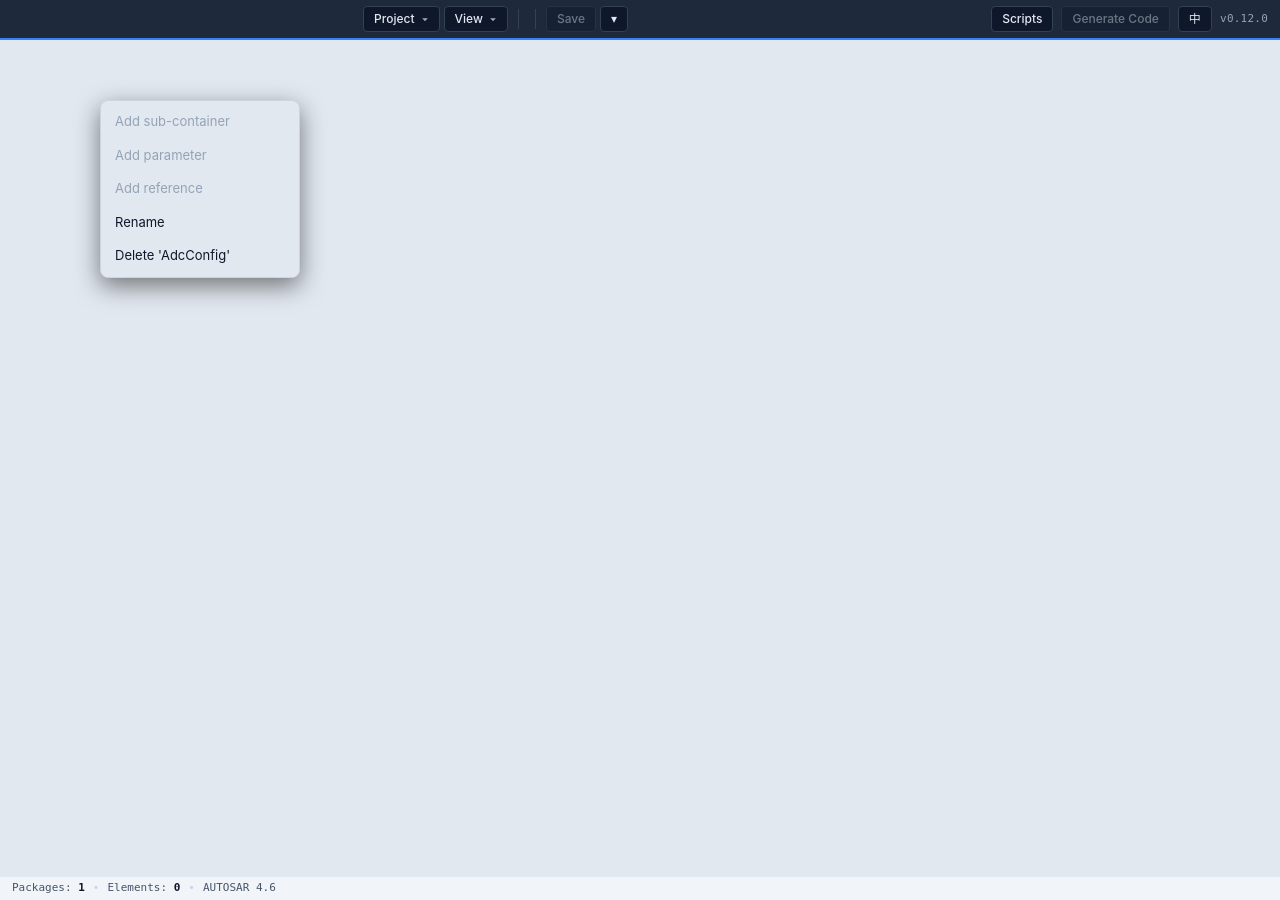
Scenario: App (Sprint A X2 — context menu + picker wiring) › routes delete-container action to useArxmlStore.deleteContainer(path)
expect the menu with test id "context-menu" is shown: met, box [100, 100, 300, 278]
Click the menu item with test id "context-menu-item-delete-container" at (173, 255), box [115, 247, 230, 263]
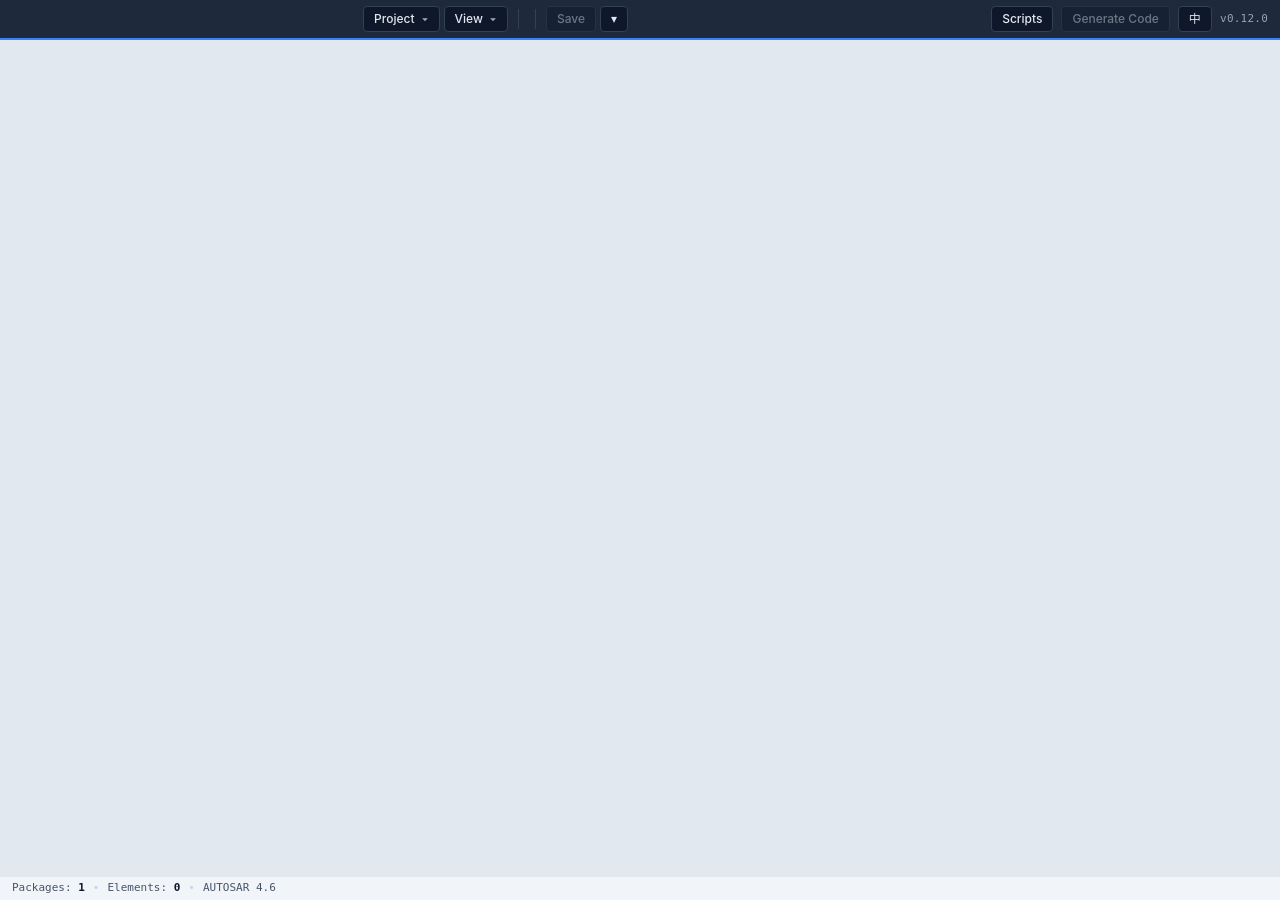
expect the menu with test id "context-menu" is gone: met
